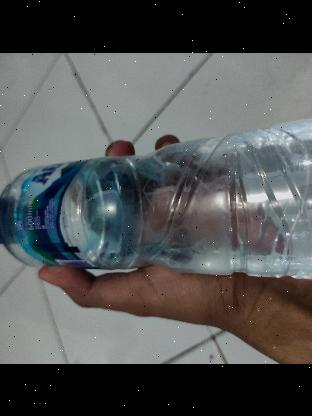Plastic Bottle: (0, 114, 312, 286)
